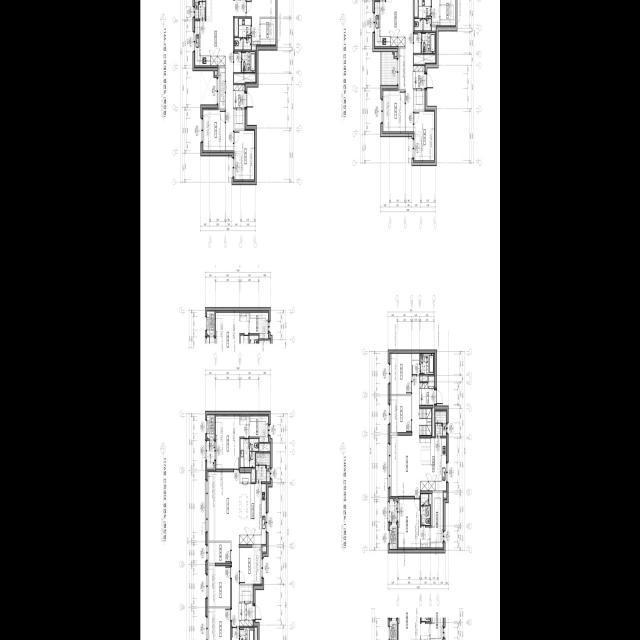background: (140, 0, 500, 640)
space_balconi: (381, 52, 396, 85), (256, 453, 269, 482), (435, 410, 446, 436), (207, 441, 214, 469), (195, 0, 205, 19), (389, 499, 396, 522)
space_bedroom: (215, 415, 249, 469), (398, 499, 429, 549), (246, 0, 275, 45), (234, 131, 254, 181), (414, 112, 434, 162), (202, 110, 225, 152), (382, 91, 405, 133), (207, 566, 230, 607), (390, 354, 411, 394), (239, 547, 261, 584), (390, 396, 411, 433), (207, 608, 230, 640)
space_dressroom: (430, 493, 442, 549), (249, 415, 268, 442), (440, 0, 455, 27), (260, 19, 275, 45)
space_front: (419, 383, 434, 405), (239, 603, 252, 626), (233, 85, 245, 108), (413, 66, 424, 89)
space_kitchen: (239, 484, 266, 545), (420, 438, 446, 491), (195, 21, 225, 66), (375, 2, 405, 47)
space_living_room: (206, 0, 245, 152), (207, 472, 239, 626), (390, 376, 420, 496), (386, 0, 413, 133)
space_other: (207, 543, 230, 563), (419, 408, 431, 436), (218, 67, 225, 108), (398, 48, 405, 89), (234, 109, 245, 129), (239, 586, 252, 602), (414, 90, 424, 110), (413, 55, 435, 64), (234, 74, 255, 83), (412, 354, 419, 375), (233, 52, 240, 72), (414, 33, 420, 53), (231, 628, 239, 640), (240, 473, 250, 482), (259, 444, 270, 451), (428, 376, 434, 387), (429, 494, 431, 526), (432, 408, 434, 436), (251, 469, 255, 482), (254, 627, 257, 640), (420, 376, 427, 381), (262, 546, 266, 553), (251, 46, 256, 50), (431, 27, 436, 31), (443, 493, 446, 498), (215, 71, 217, 75), (394, 52, 396, 56)
space_outdoor_room: (389, 524, 397, 549), (207, 415, 214, 439)
space_toilet: (234, 18, 251, 50), (240, 439, 258, 467), (414, 0, 430, 30), (241, 52, 255, 72), (421, 33, 435, 53), (421, 494, 430, 525), (420, 354, 433, 374), (240, 628, 253, 640)
